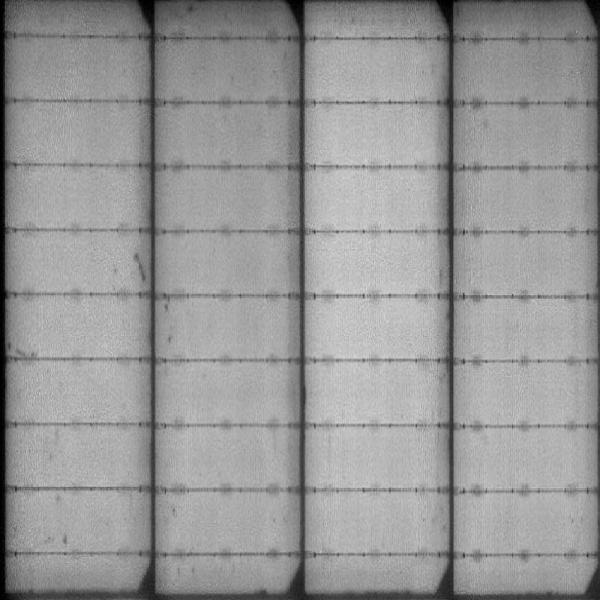scratch: (130, 253, 148, 283)
